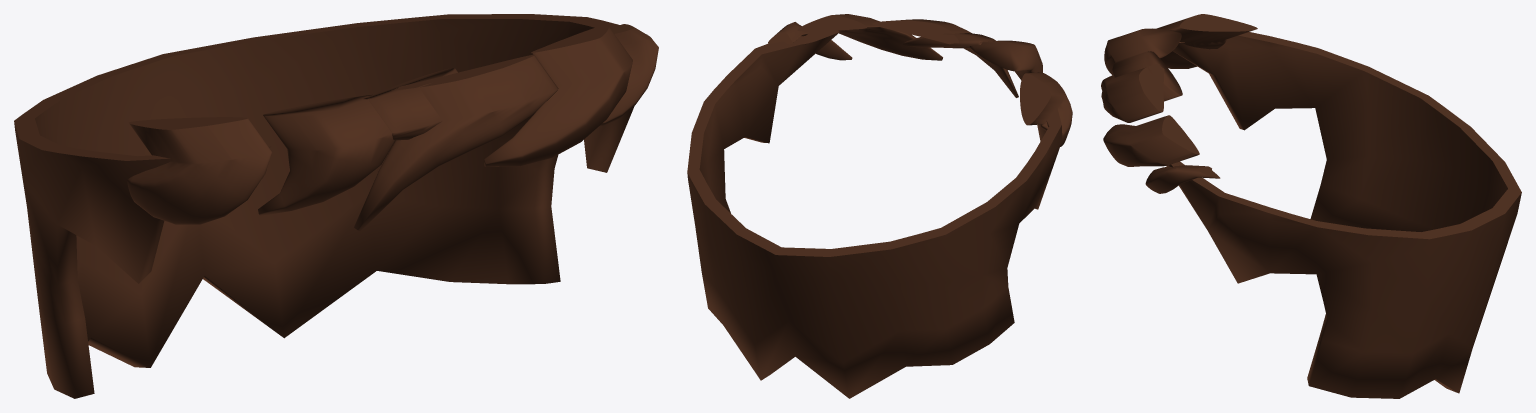
3 views of the same model, side by side, from view 1: azimuth 30°, elevation 25°; view 2: azimuth 150°, elevation 25°; view 3: azimuth 270°, elevation 25° (orthographic). The views are drawn at different scales.
Parts seen in each view (by area): view 1: hairShortSideFringeBald; view 2: hairShortSideFringeBald; view 3: hairShortSideFringeBald.
Boxes of the visible parts, <box> form: hairShortSideFringeBald: <box>14,14,658,398</box>; hairShortSideFringeBald: <box>687,14,1072,398</box>; hairShortSideFringeBald: <box>1101,14,1521,398</box>.
Bounding box in the file's own units: 0.4936 × 0.3826 × 0.4893.
1 material, 1 textured.
